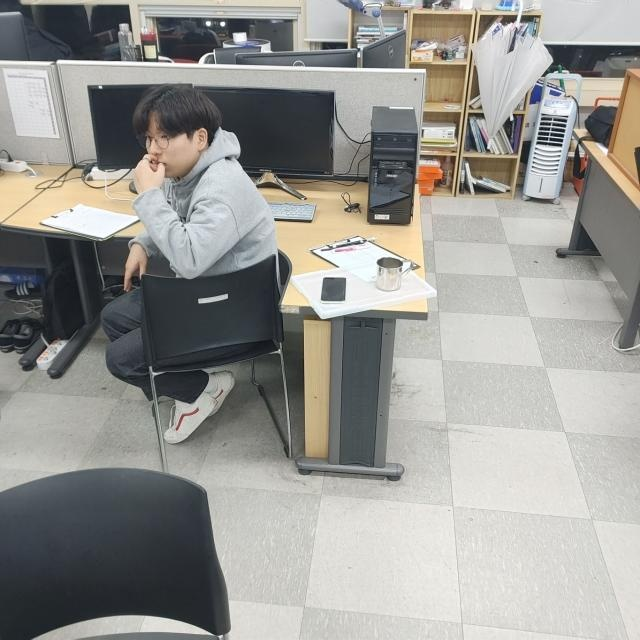cup: (374, 254, 420, 294)
phone: (321, 273, 348, 304)
